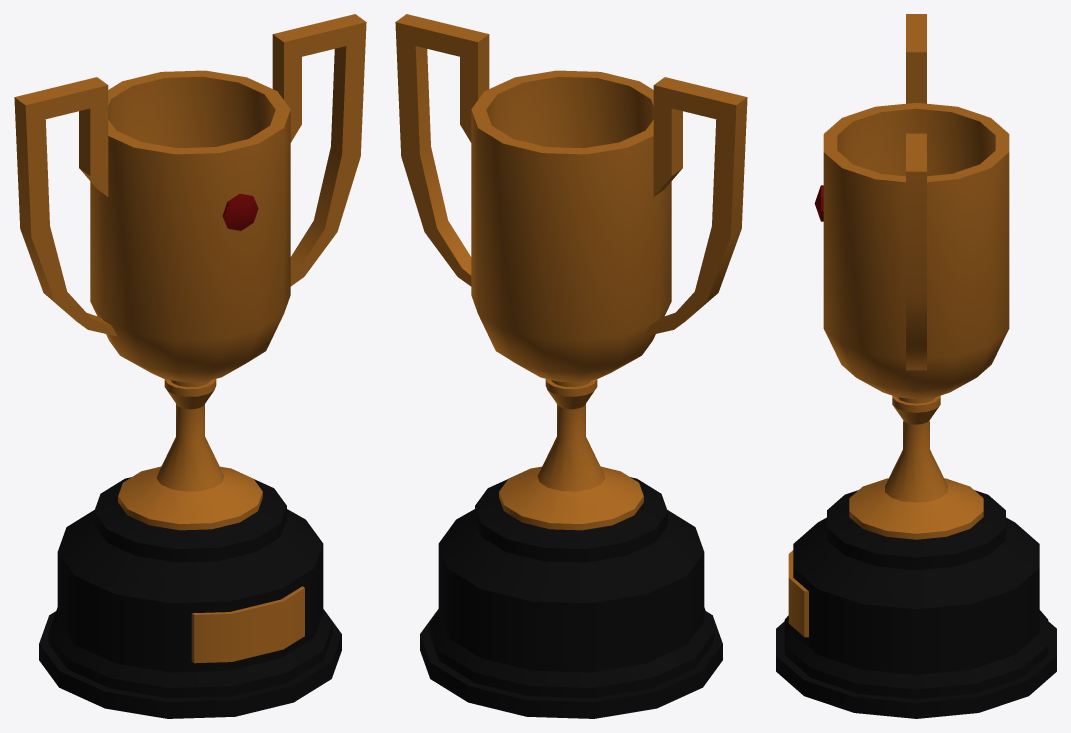
Rendered from Cup.FBX.
3 renders of one model, left to right at view 1: azimuth 30°, elevation 25°; view 2: azimuth 150°, elevation 25°; view 3: azimuth 270°, elevation 25°, orthographic. The views are drawn at different scales.
Visible parts, largest first — view 1: Line001; view 2: Line001; view 3: Line001.
Part boxes in pixels (x1,y1,x2,y2): Line001: [14, 14, 366, 718]; Line001: [395, 14, 747, 718]; Line001: [776, 14, 1056, 718].
Size of the model in its own units: 44.17 by 73.77 by 33.2.
